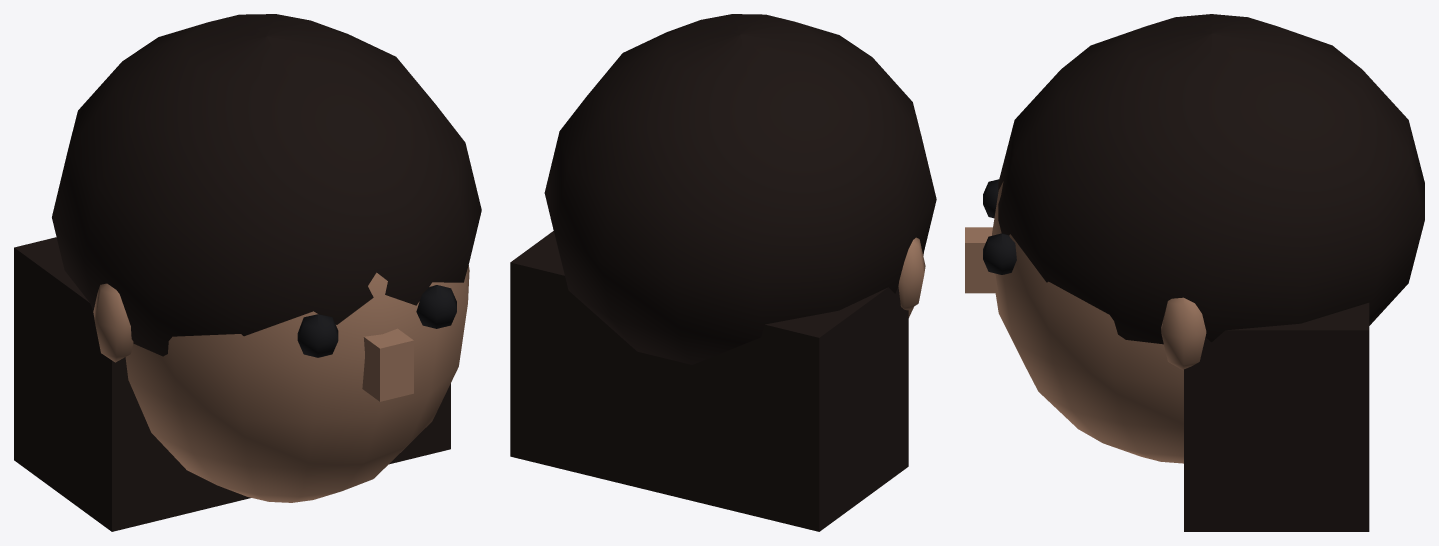
Rendered from head.obj.
3 views of the same model, side by side, from view 1: azimuth 30°, elevation 25°; view 2: azimuth 150°, elevation 25°; view 3: azimuth 270°, elevation 25° (orthographic). The views are drawn at different scales.
Visible parts, largest first — view 1: head; view 2: head; view 3: head.
Boxes of the visible parts, x1,y1,x2,y2 form: head: [14, 14, 481, 531]; head: [510, 14, 936, 531]; head: [965, 14, 1424, 531].
Bounding box in the file's own units: 0.2112 × 0.24 × 0.2381.
